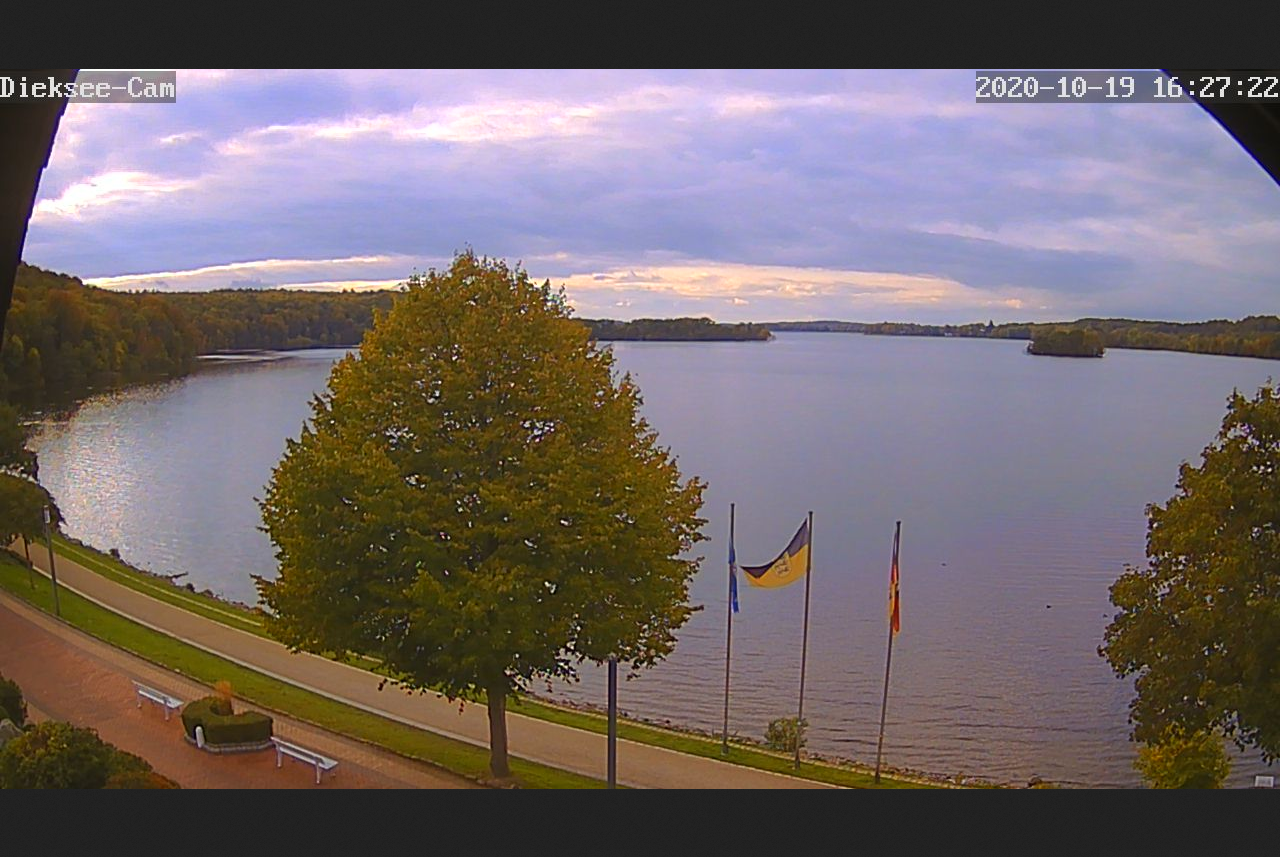maybe: (744, 513, 808, 593)
no: (886, 532, 903, 642), (726, 530, 739, 620)
